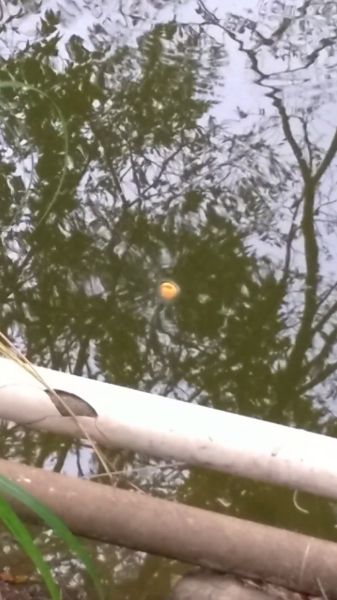eggs: (156, 280, 182, 299)
